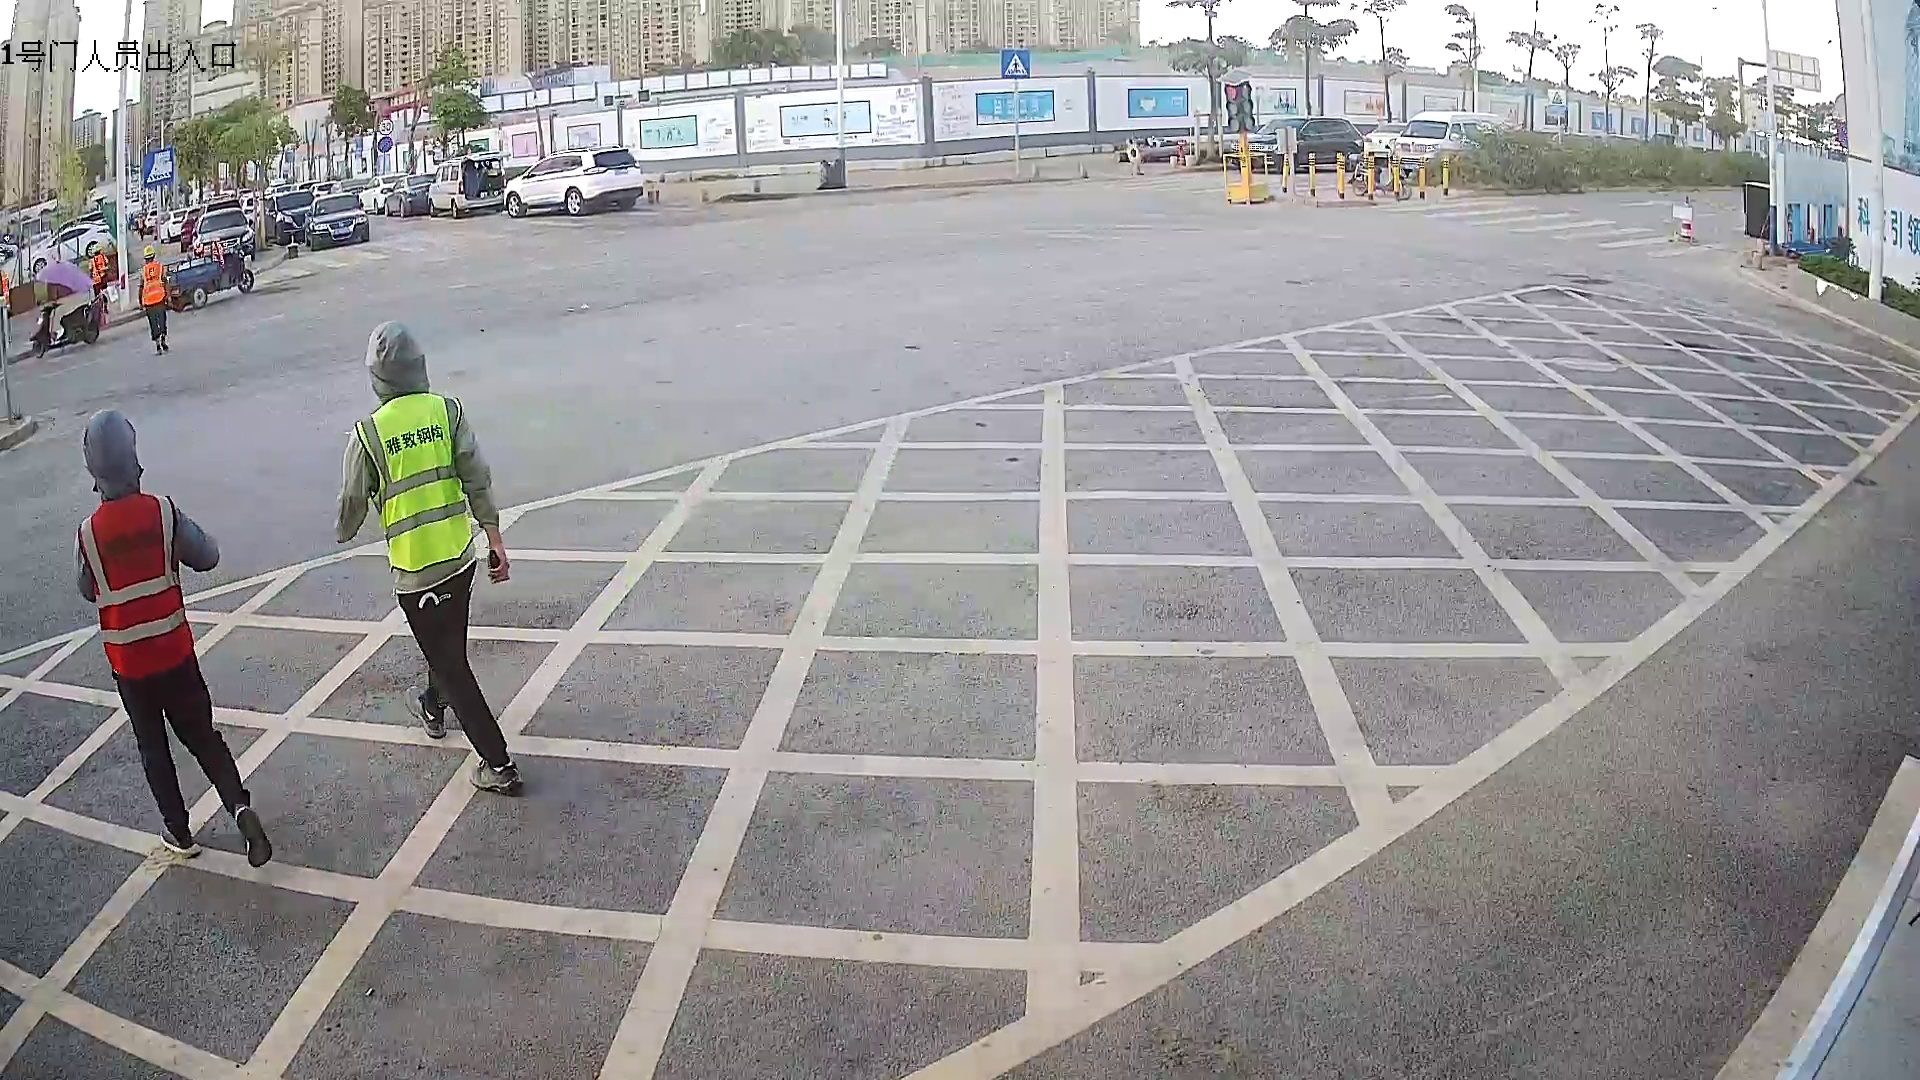head: (79, 405, 154, 502), (365, 316, 431, 403)
person: (330, 315, 529, 803), (73, 404, 279, 869), (136, 244, 171, 356), (88, 243, 110, 314)
reflective_vest: (72, 490, 200, 678), (356, 386, 478, 570), (140, 262, 165, 306), (90, 255, 106, 285)
safety_helmet: (142, 244, 156, 263), (91, 243, 102, 255)
